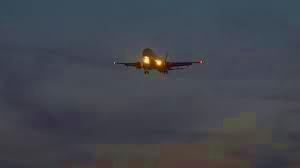Plane: (115, 44, 204, 86)
